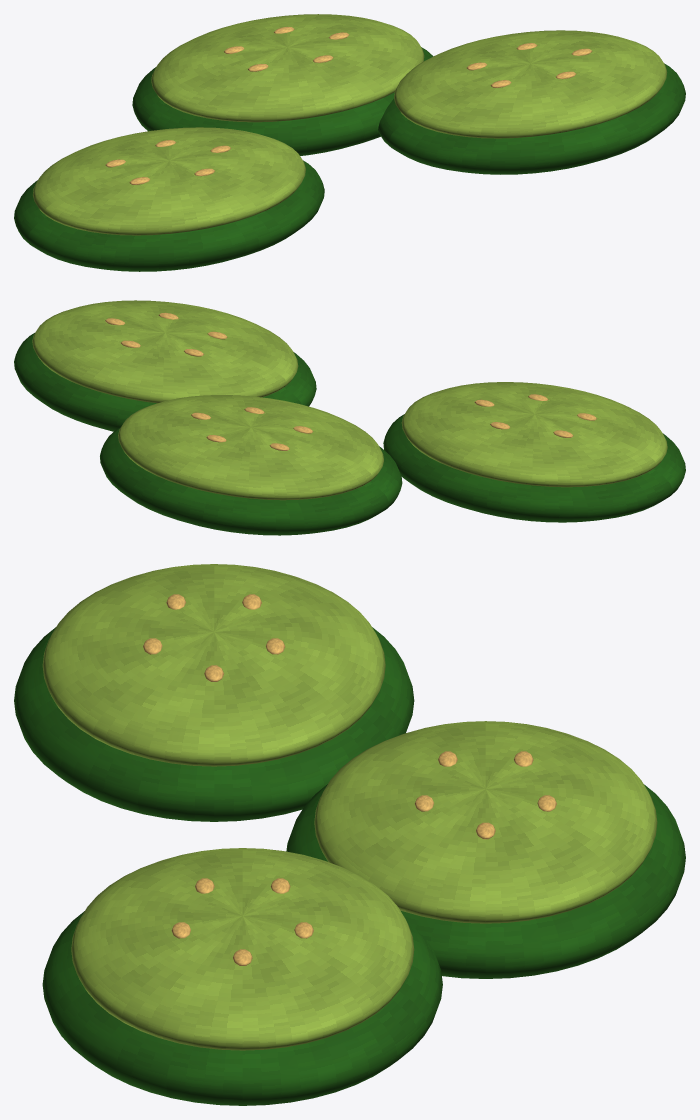
File: item_pickles.glb
The picture shows the model from 3 angles, top to bottom: view 1: azimuth 30°, elevation 25°; view 2: azimuth 150°, elevation 25°; view 3: azimuth 270°, elevation 25°; orthographic projection. The views are drawn at different scales.
Visible parts, largest first — view 1: 透けるピクルスの断面.002, 透けるピクルスの断面, 透けるピクルスの断面.001, 波形ピクルスの皮, 波形ピクルスの皮.002, 波形ピクルスの皮.001; view 2: 透けるピクルスの断面.001, 透けるピクルスの断面, 透けるピクルスの断面.002, 波形ピクルスの皮.001, 波形ピクルスの皮, 波形ピクルスの皮.002; view 3: 透けるピクルスの断面, 透けるピクルスの断面.002, 透けるピクルスの断面.001, 波形ピクルスの皮.002, 波形ピクルスの皮, 波形ピクルスの皮.001.
Boxes of the visible parts, x1,y1,x2,y2 form: 透けるピクルスの断面.002: [394, 30, 667, 138]; 透けるピクルスの断面: [33, 127, 305, 235]; 透けるピクルスの断面.001: [151, 14, 424, 122]; 波形ピクルスの皮: [14, 160, 324, 271]; 波形ピクルスの皮.002: [378, 63, 685, 174]; 波形ピクルスの皮.001: [132, 47, 433, 155]; 透けるピクルスの断面.001: [118, 395, 383, 500]; 透けるピクルスの断面: [401, 382, 667, 487]; 透けるピクルスの断面.002: [32, 300, 298, 403]; 波形ピクルスの皮.001: [100, 427, 402, 535]; 波形ピクルスの皮: [383, 414, 685, 522]; 波形ピクルスの皮.002: [14, 333, 316, 431]; 透けるピクルスの断面: [42, 564, 385, 766]; 透けるピクルスの断面.002: [71, 848, 414, 1050]; 透けるピクルスの断面.001: [314, 721, 657, 923]; 波形ピクルスの皮.002: [42, 911, 442, 1105]; 波形ピクルスの皮: [14, 627, 414, 821]; 波形ピクルスの皮.001: [286, 784, 685, 978].
Size of the model in its own units: 0.83 by 0.096 by 0.47.
3 materials, 3 textured.
